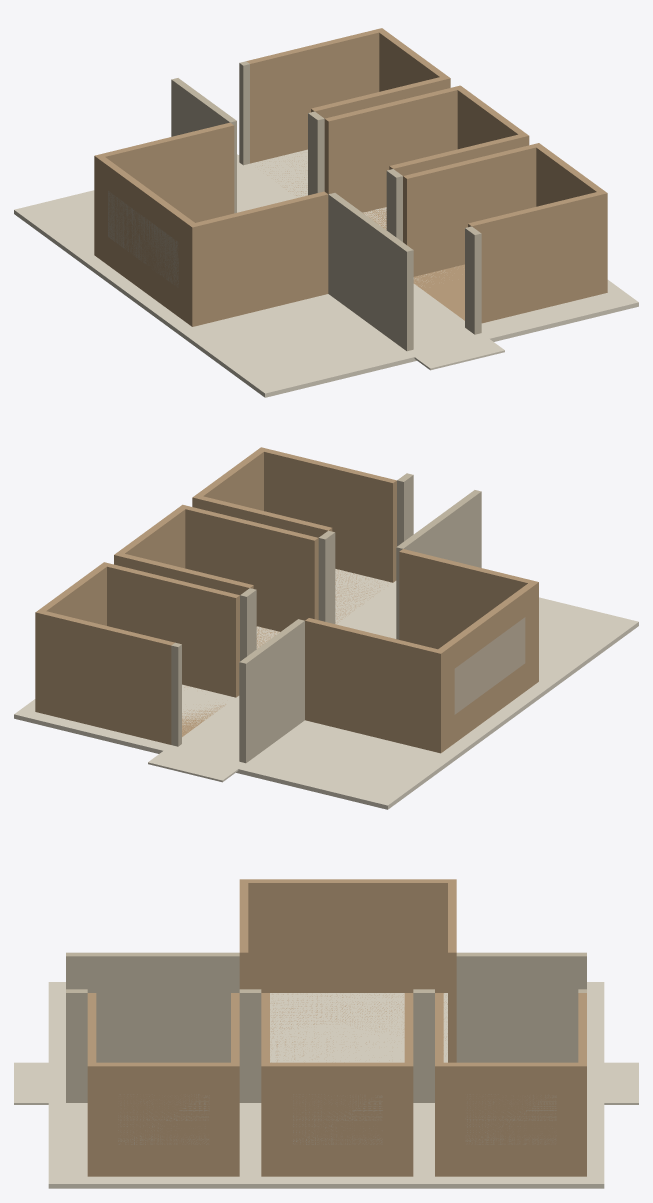
Rendered from wellness-facilities.lod1.glb.
3 renders of one model, top to bottom at view 1: azimuth 30°, elevation 25°; view 2: azimuth 150°, elevation 25°; view 3: azimuth 270°, elevation 25°, orthographic. The views are drawn at different scales.
Size of the model in its own units: 11 by 3.82 by 14.4.
